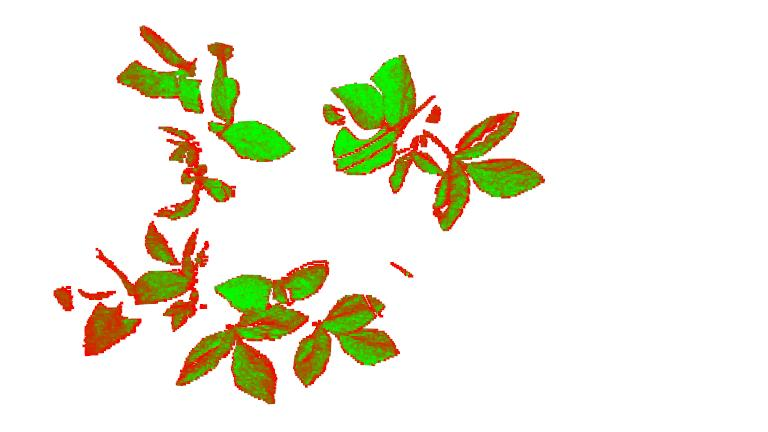mungbean: (55, 223, 307, 406), (323, 54, 549, 231), (114, 26, 296, 220), (216, 261, 400, 388)
